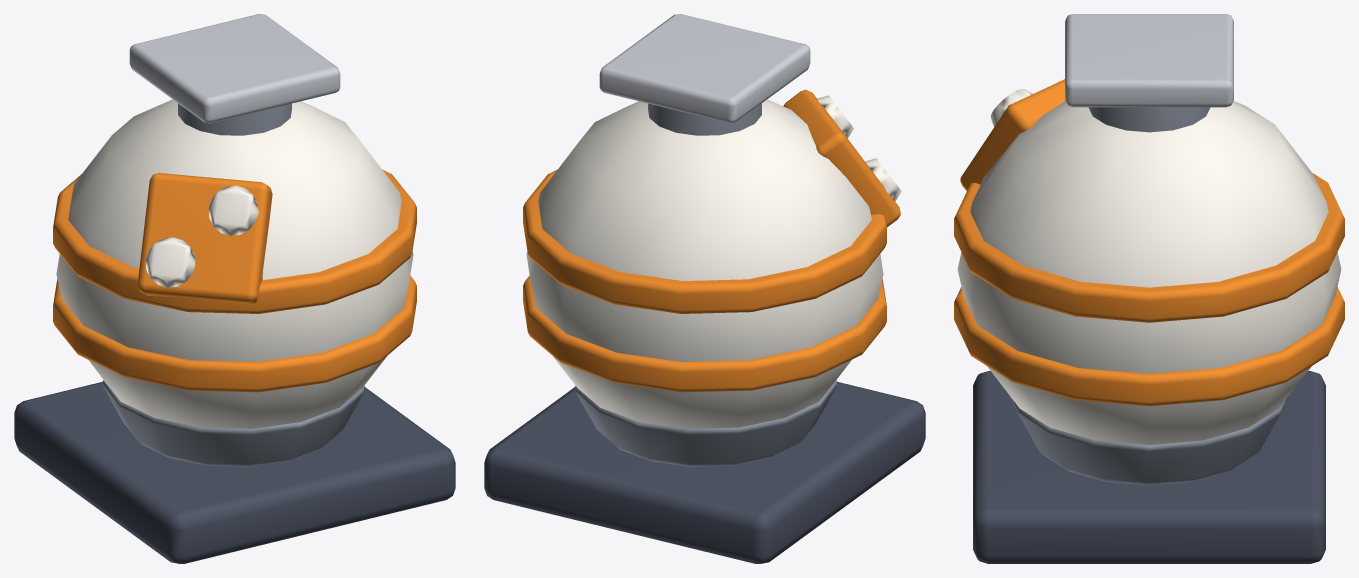
Rendered from Tank_OxygenSpare2.glb.
3 views of the same model, side by side, from view 1: azimuth 30°, elevation 25°; view 2: azimuth 150°, elevation 25°; view 3: azimuth 270°, elevation 25° (orthographic). The views are drawn at different scales.
Visible parts, largest first — view 1: Tank_OxygenSpare2.Shell, Tank_OxygenSpare2.Plinth, Tank_OxygenSpare2.Band, Tank_OxygenSpare2.Pad, Tank_OxygenSpare2.Label, Tank_OxygenSpare2.Cradle, Tank_OxygenSpare2.Dot_1, Tank_OxygenSpare2.Dot_2, Tank_OxygenSpare2.Neck; view 2: Tank_OxygenSpare2.Shell, Tank_OxygenSpare2.Plinth, Tank_OxygenSpare2.Band, Tank_OxygenSpare2.Pad, Tank_OxygenSpare2.Cradle, Tank_OxygenSpare2.Label, Tank_OxygenSpare2.Neck, Tank_OxygenSpare2.Dot_1, Tank_OxygenSpare2.Dot_2; view 3: Tank_OxygenSpare2.Shell, Tank_OxygenSpare2.Plinth, Tank_OxygenSpare2.Band, Tank_OxygenSpare2.Pad, Tank_OxygenSpare2.Cradle, Tank_OxygenSpare2.Label, Tank_OxygenSpare2.Neck, Tank_OxygenSpare2.Dot_2.
Boxes of the visible parts, box(x1,y1,x2,y2) form: Tank_OxygenSpare2.Shell: box(56, 99, 413, 428); Tank_OxygenSpare2.Plinth: box(14, 381, 455, 563); Tank_OxygenSpare2.Band: box(53, 169, 416, 392); Tank_OxygenSpare2.Pad: box(129, 14, 340, 123); Tank_OxygenSpare2.Label: box(137, 173, 272, 304); Tank_OxygenSpare2.Cradle: box(103, 380, 364, 466); Tank_OxygenSpare2.Dot_1: box(145, 237, 195, 287); Tank_OxygenSpare2.Dot_2: box(208, 185, 258, 235); Tank_OxygenSpare2.Neck: box(178, 103, 291, 135); Tank_OxygenSpare2.Shell: box(526, 99, 883, 428); Tank_OxygenSpare2.Plinth: box(484, 381, 925, 563); Tank_OxygenSpare2.Band: box(523, 169, 886, 392); Tank_OxygenSpare2.Pad: box(599, 14, 810, 123); Tank_OxygenSpare2.Cradle: box(575, 380, 836, 466); Tank_OxygenSpare2.Label: box(783, 89, 900, 227); Tank_OxygenSpare2.Neck: box(648, 103, 761, 135); Tank_OxygenSpare2.Dot_1: box(865, 158, 901, 201); Tank_OxygenSpare2.Dot_2: box(817, 95, 853, 138); Tank_OxygenSpare2.Shell: box(957, 101, 1341, 444); Tank_OxygenSpare2.Plinth: box(973, 371, 1325, 563); Tank_OxygenSpare2.Band: box(954, 173, 1344, 406); Tank_OxygenSpare2.Pad: box(1065, 14, 1233, 107); Tank_OxygenSpare2.Cradle: box(1010, 396, 1288, 485); Tank_OxygenSpare2.Label: box(960, 79, 1065, 190); Tank_OxygenSpare2.Neck: box(1088, 107, 1210, 132); Tank_OxygenSpare2.Dot_2: box(990, 88, 1033, 126).
Size of the model in its own units: 0.5094 by 0.645 by 0.5094.
1 material, 1 textured.
